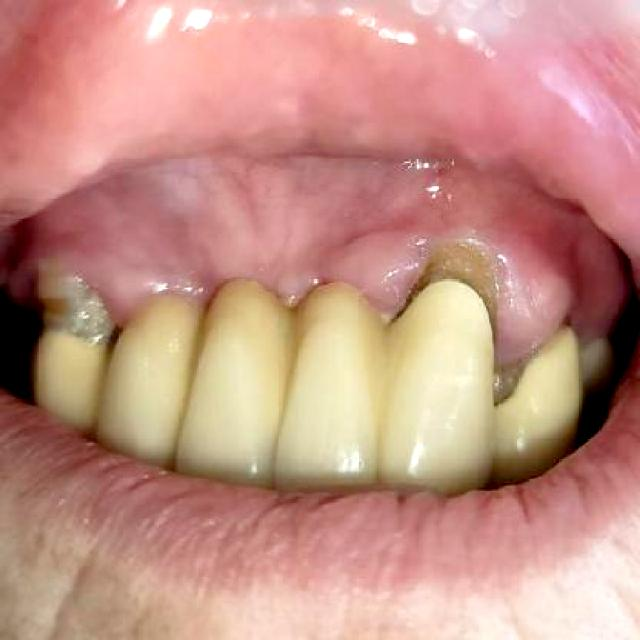Plaque: (476, 347, 540, 414)
